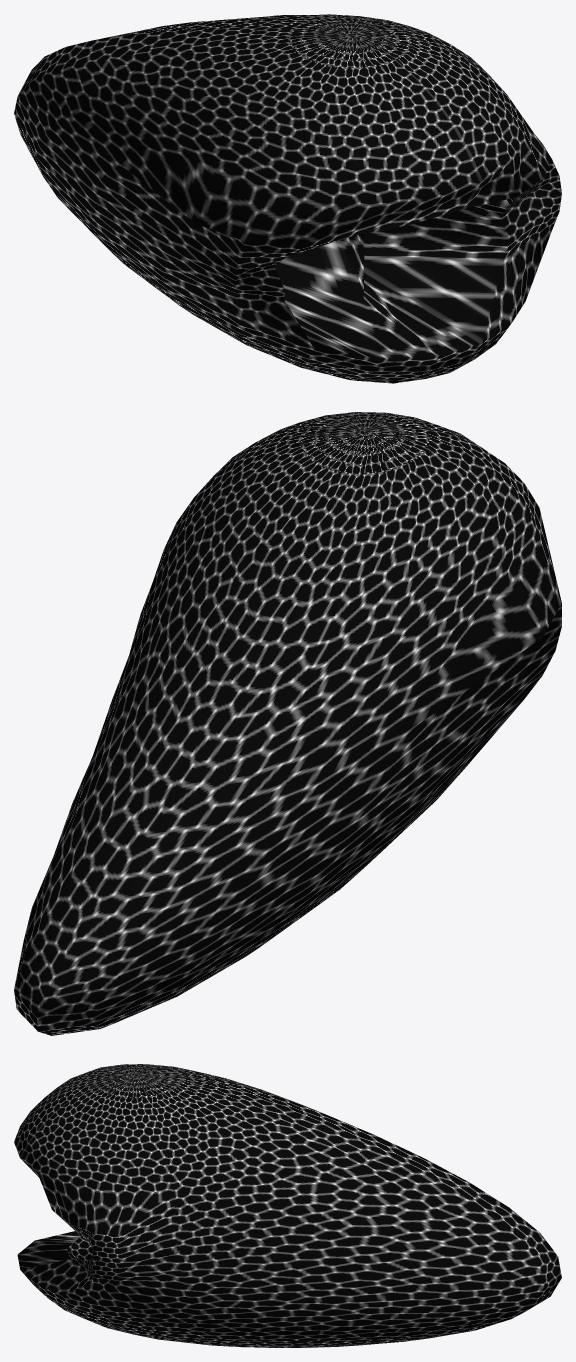
Rendered from cave.fbx.
The picture shows the model from 3 angles, top to bottom: view 1: azimuth 30°, elevation 25°; view 2: azimuth 150°, elevation 25°; view 3: azimuth 270°, elevation 25°; orthographic projection. The views are drawn at different scales.
Parts seen in each view (by area): view 1: smallCave; view 2: smallCave; view 3: smallCave.
Part boxes in pixels (x1,y1,x2,y2): smallCave: (14,14,561,383); smallCave: (14,412,561,1035); smallCave: (14,1064,561,1347).
Bounding box in the file's own units: 6.49 × 6.68 × 12.8.
